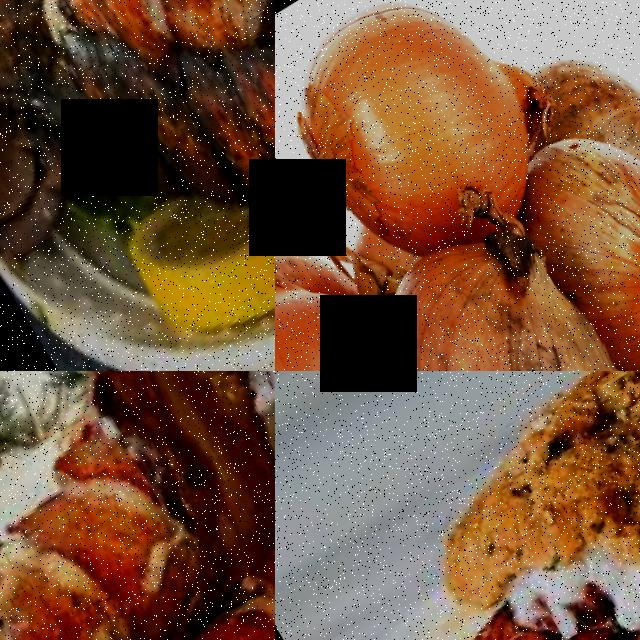lobster tails: (300, 375, 640, 640), (0, 0, 275, 298)
onion: (275, 0, 562, 288), (344, 198, 640, 371), (499, 106, 640, 371), (275, 216, 478, 371)
